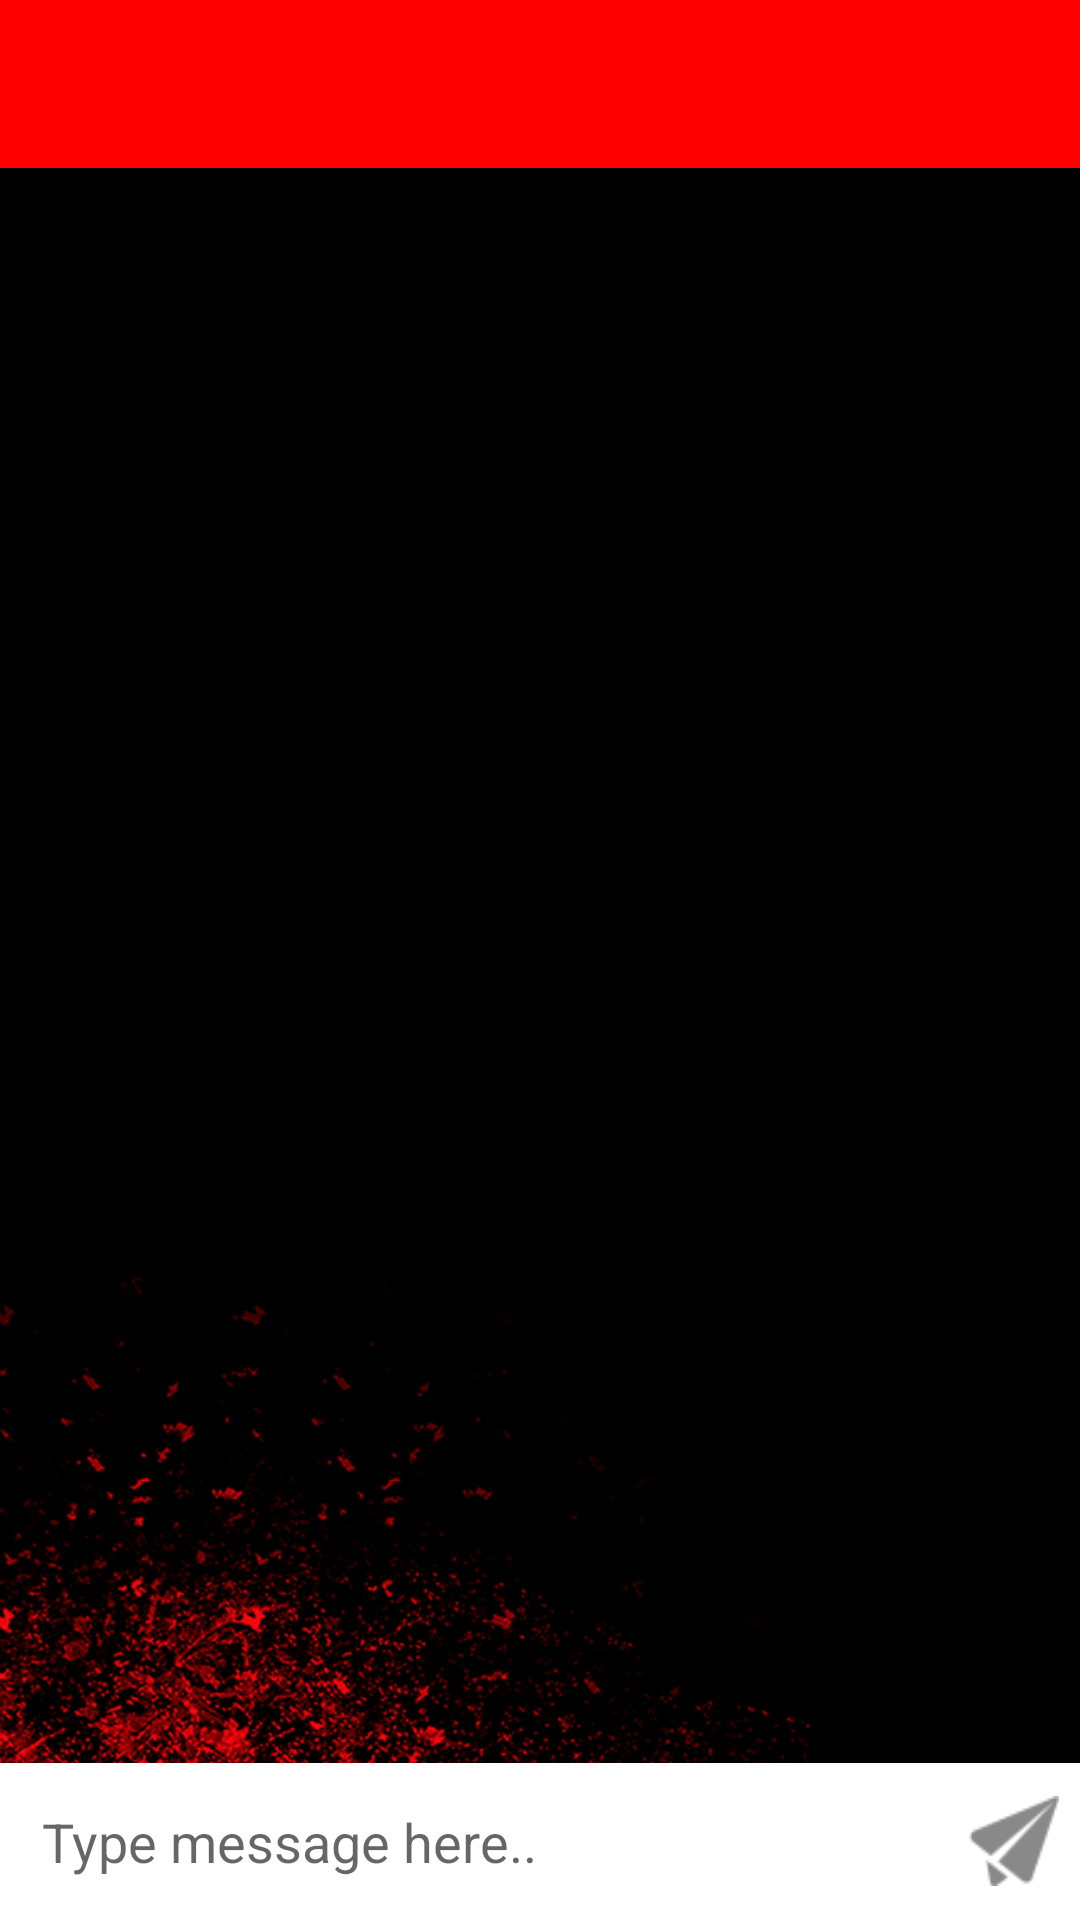

Locate icon controls on the screen. Image size 1080px x 1920px, boxes as (left=x1, top=y1, right=x2, bottom=y2).
send: (left=969, top=1796, right=1059, bottom=1886)
